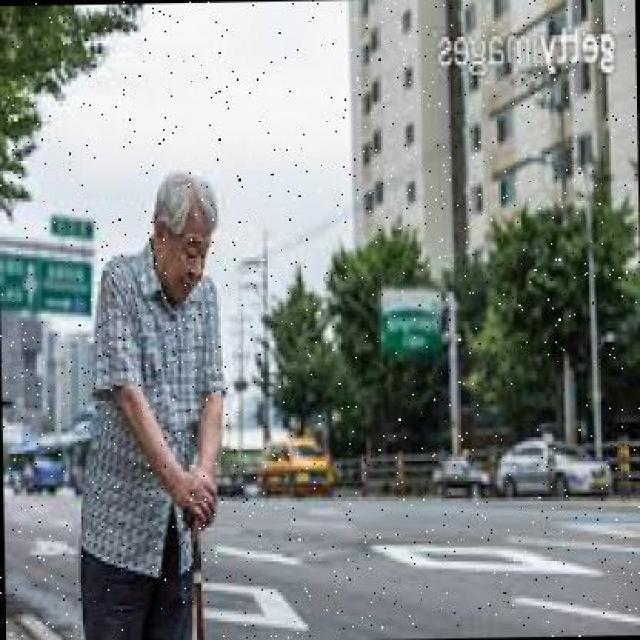-: (70, 166, 228, 639)
